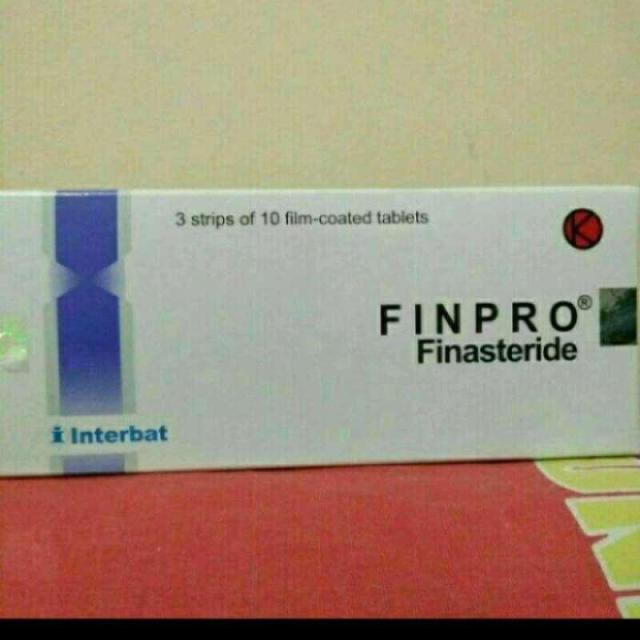drug-name: (376, 296, 584, 338)
